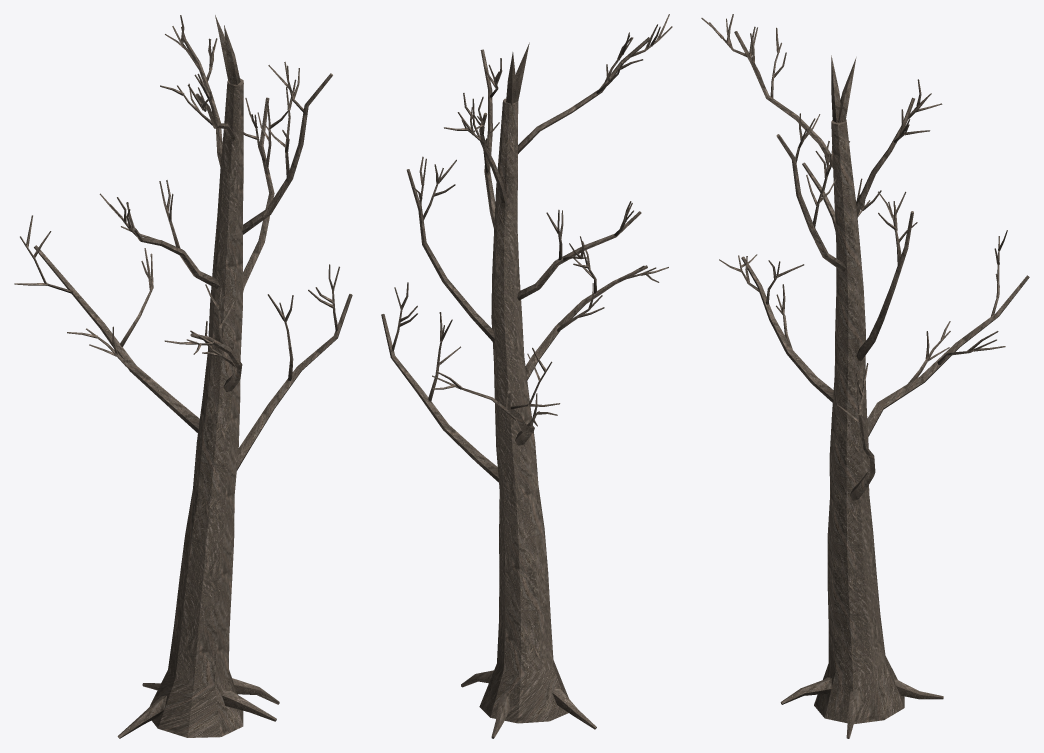
The model's file is dead_tree_a.glb.
The picture shows the model from 3 angles, left to right: view 1: azimuth 30°, elevation 25°; view 2: azimuth 150°, elevation 25°; view 3: azimuth 270°, elevation 25°; orthographic projection. The views are drawn at different scales.
Parts seen in each view (by area): view 1: dead_tree_a; view 2: dead_tree_a; view 3: dead_tree_a.
Part boxes in pixels (box(x1,y1,x2,y2)): dead_tree_a: box(14, 15, 352, 738); dead_tree_a: box(381, 14, 672, 738); dead_tree_a: box(701, 14, 1029, 738).
Bounding box in the file's own units: 3.31 × 8.43 × 3.81.
Materials: 1 (1 with a texture image).
